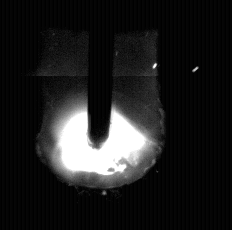arame: (89, 0, 112, 148)
poca: (39, 0, 165, 230)
